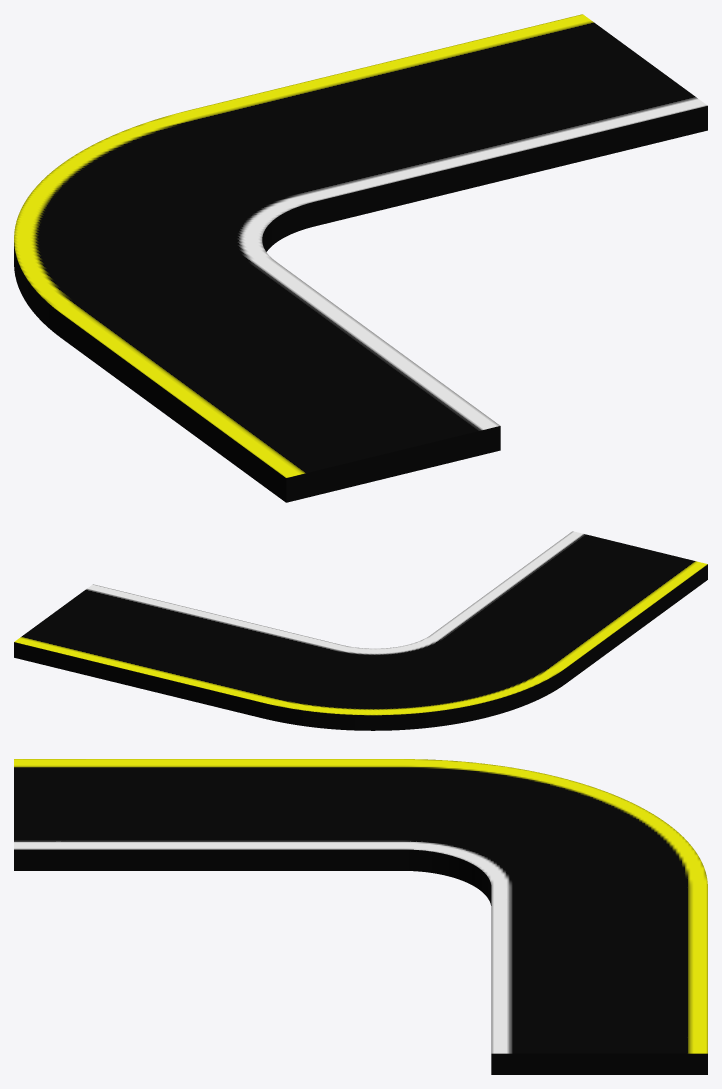
Rendered from Panel_R03_C03__Road_00.dae.
The picture shows the model from 3 angles, top to bottom: view 1: azimuth 30°, elevation 25°; view 2: azimuth 150°, elevation 25°; view 3: azimuth 270°, elevation 25°; orthographic projection. The views are drawn at different scales.
Parts seen in each view (by area): view 1: Object; view 2: Object; view 3: Object.
Boxes of the visible parts, x1=… form: Object: x1=14, y1=14, x2=707, y2=502; Object: x1=14, y1=531, x2=707, y2=730; Object: x1=14, y1=759, x2=707, y2=1074.
Size of the model in its own units: 0.8864 by 0.8828 by 0.03.
Materials: 2 (1 with a texture image).
